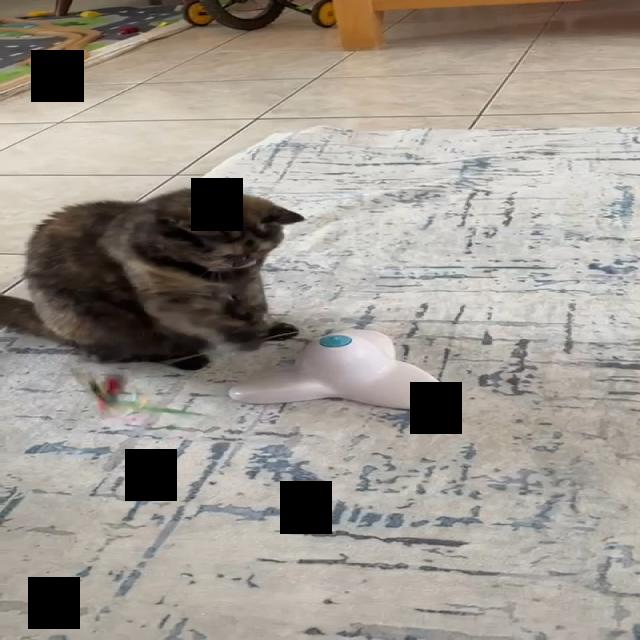authorized: (0, 184, 305, 370)
